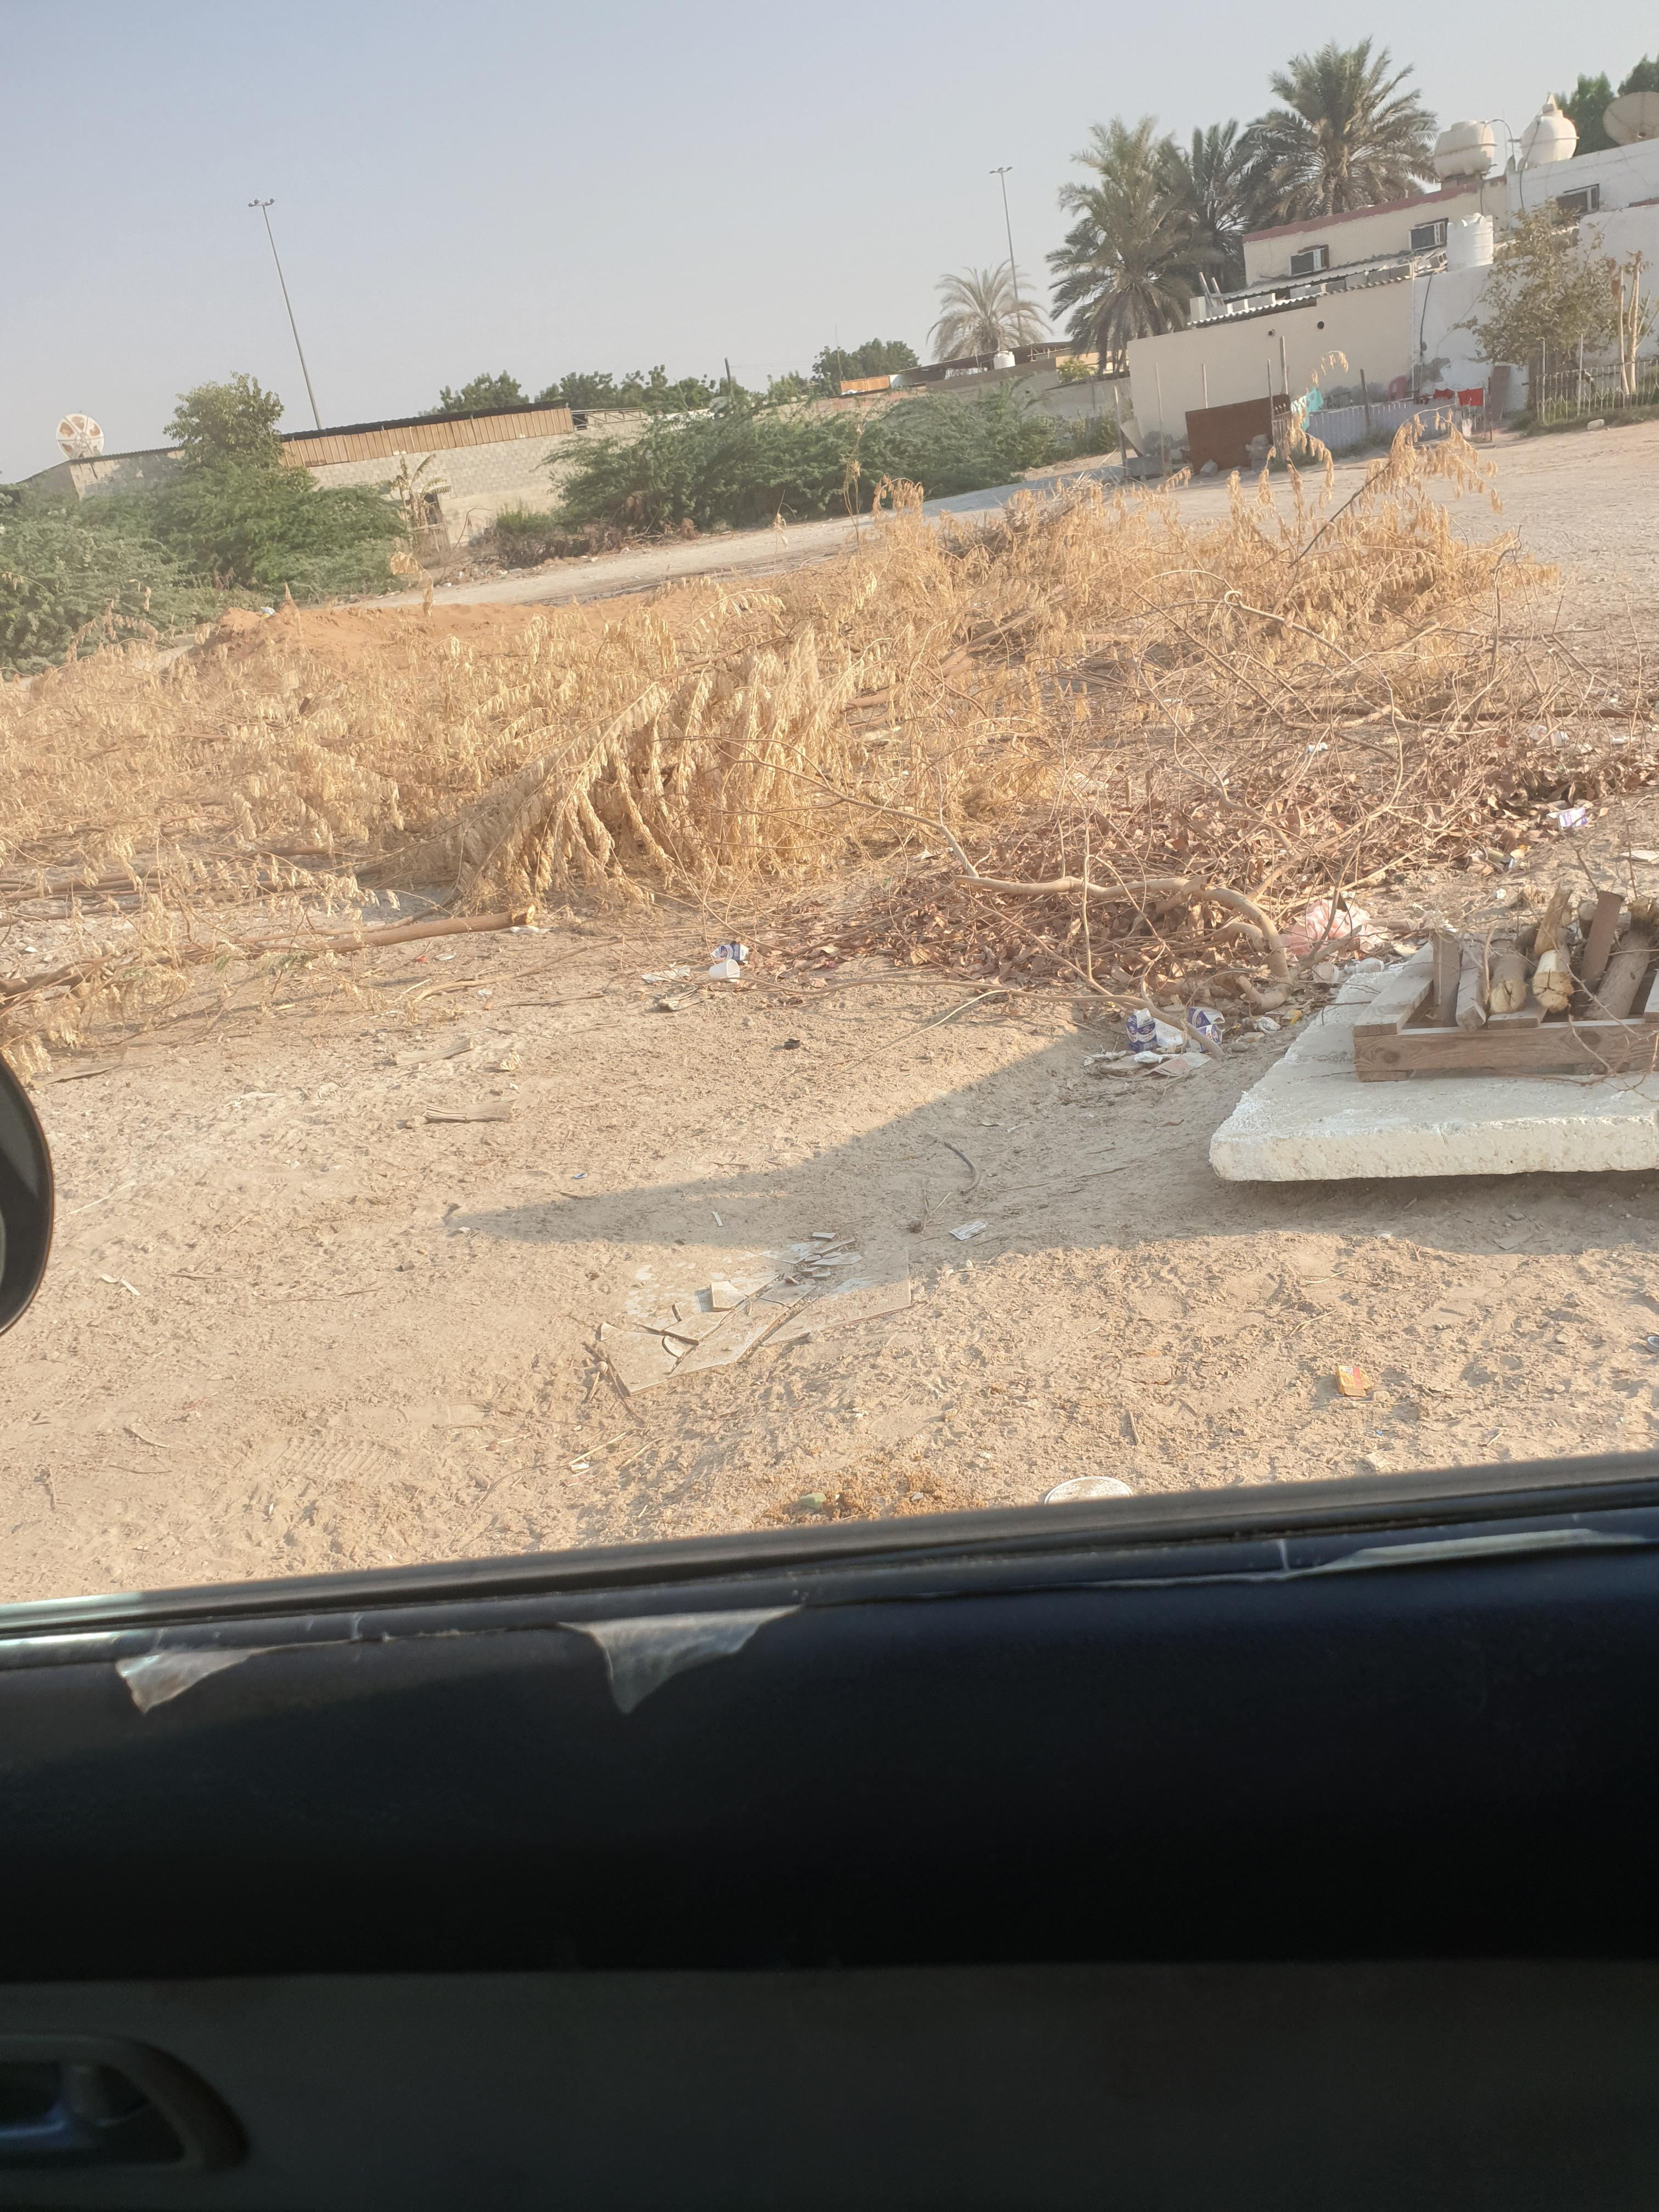fallen_trees: (51, 603, 819, 1082), (544, 521, 1312, 892), (857, 794, 1363, 1061), (1229, 667, 1659, 845)
uncollected_waste: (1260, 939, 1659, 1216)
